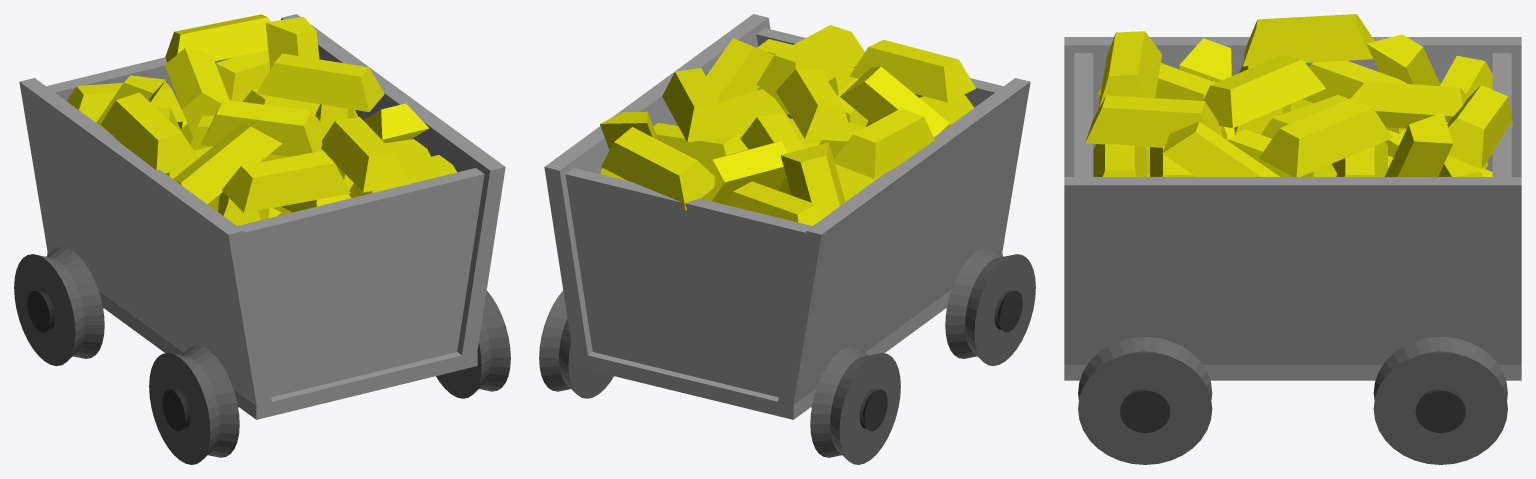
Rendered from Goldwagen.fbx.
3 views of the same model, side by side, from view 1: azimuth 30°, elevation 25°; view 2: azimuth 150°, elevation 25°; view 3: azimuth 270°, elevation 25° (orthographic). The views are drawn at different scales.
Parts seen in each view (by area): view 1: Cube.009; view 2: Cube.009; view 3: Cube.009.
Boxes of the visible parts, box(x1,y1,x2,y2) form: Cube.009: box(14, 14, 510, 464); Cube.009: box(539, 14, 1035, 464); Cube.009: box(1064, 14, 1521, 464).
Size of the model in its own units: 274 by 244 by 317.
